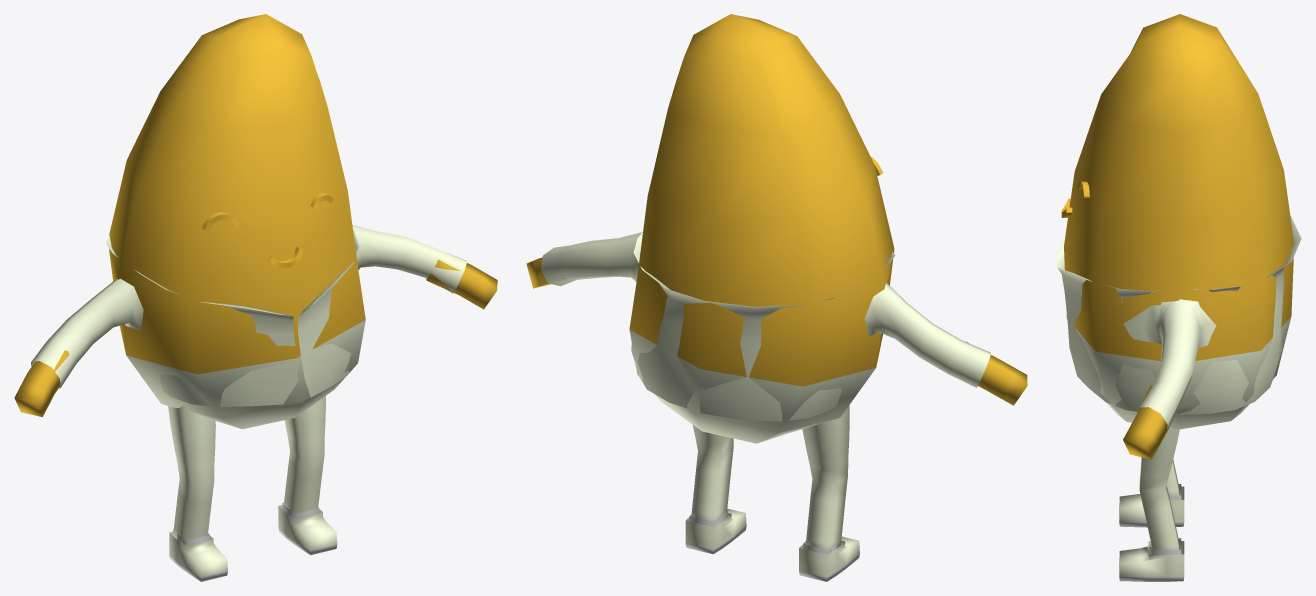
File: mango_B.fbx
The picture shows the model from 3 angles, left to right: view 1: azimuth 30°, elevation 25°; view 2: azimuth 150°, elevation 25°; view 3: azimuth 270°, elevation 25°; orthographic projection. The views are drawn at different scales.
Visible parts, largest first — view 1: mango_B; view 2: mango_B; view 3: mango_B.
Boxes of the visible parts, left/top/right/bottom form: mango_B: left=14, top=14, right=497, bottom=581; mango_B: left=526, top=14, right=1027, bottom=581; mango_B: left=1056, top=14, right=1301, bottom=581.
Bounding box in the file's own units: 223 × 231 × 96.17.
